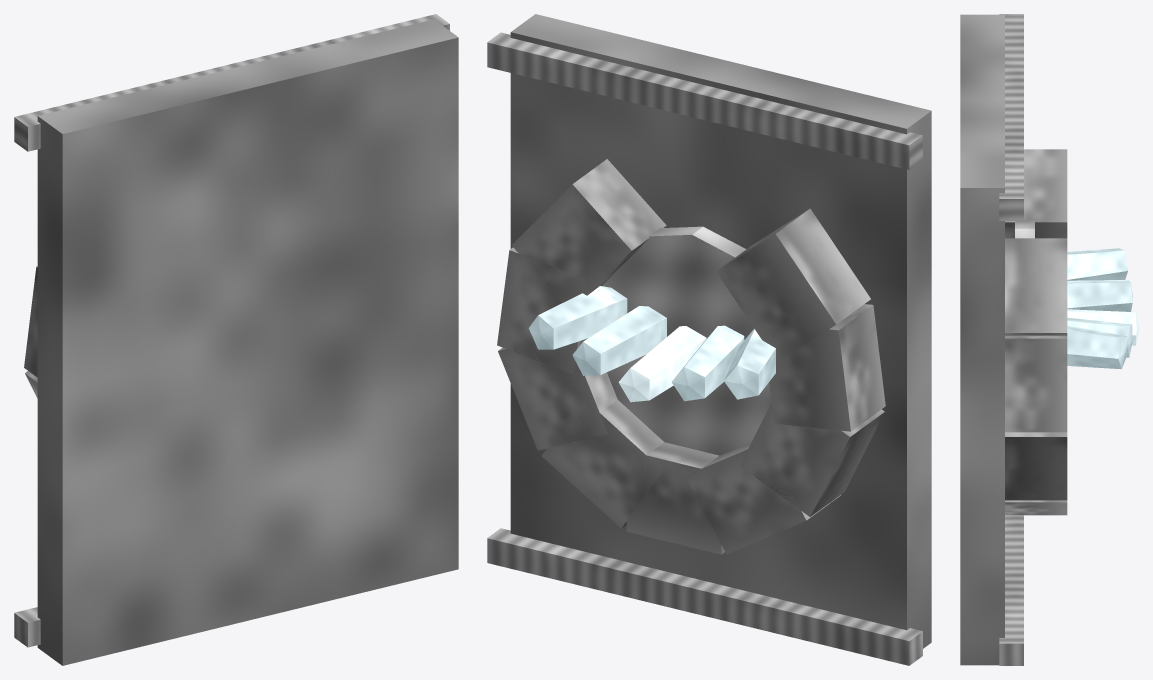
File: decor-cut-geode-plaque.glb
3 views of the same model, side by side, from view 1: azimuth 30°, elevation 25°; view 2: azimuth 150°, elevation 25°; view 3: azimuth 270°, elevation 25° (orthographic). The views are drawn at different scales.
Parts seen in each view (by area): view 1: backing, top-band, bottom-band, shell-1; view 2: backing, geode-shadow, top-band, bottom-band, shell-0, shell-8, shell-1, shell-5, shell-2, shell-6, shell-3, shell-4 (+6 smaller); view 3: backing, shell-8, shell-7, shell-6, top-band, shell-0, bottom-band, interior-2, interior--1, interior--2, shell-5, interior-0 (+2 smaller).
Part boxes in pixels (box(x1,y1,x2,y2)): backing: box(37, 19, 458, 665); top-band: box(14, 14, 449, 151); bottom-band: box(14, 607, 40, 647); shell-1: box(24, 266, 37, 377); backing: box(510, 14, 931, 648); geode-shadow: box(602, 226, 771, 455); top-band: box(487, 32, 922, 169); bottom-band: box(487, 528, 922, 665); shell-0: box(716, 208, 870, 360); shell-8: box(511, 159, 666, 302); shell-1: box(762, 304, 885, 431); shell-5: box(542, 400, 663, 528); shell-2: box(740, 388, 884, 516); shell-6: box(498, 342, 617, 450); shell-3: box(685, 442, 840, 554); shell-4: box(626, 442, 724, 554); backing: box(960, 14, 1004, 665); shell-8: box(1005, 238, 1067, 335); shell-7: box(1005, 335, 1067, 432); shell-6: box(1005, 432, 1067, 500); top-band: box(999, 14, 1023, 220); shell-0: box(1005, 149, 1067, 238); bottom-band: box(999, 515, 1023, 665); interior-2: box(1067, 325, 1127, 369); interior--1: box(1067, 280, 1132, 311); interior--2: box(1067, 248, 1127, 280); shell-5: box(1005, 500, 1067, 515); interior-0: box(1067, 309, 1138, 345).
Size of the model in its own units: 0.98 by 1.18 by 0.4.
6 materials, 6 textured.
